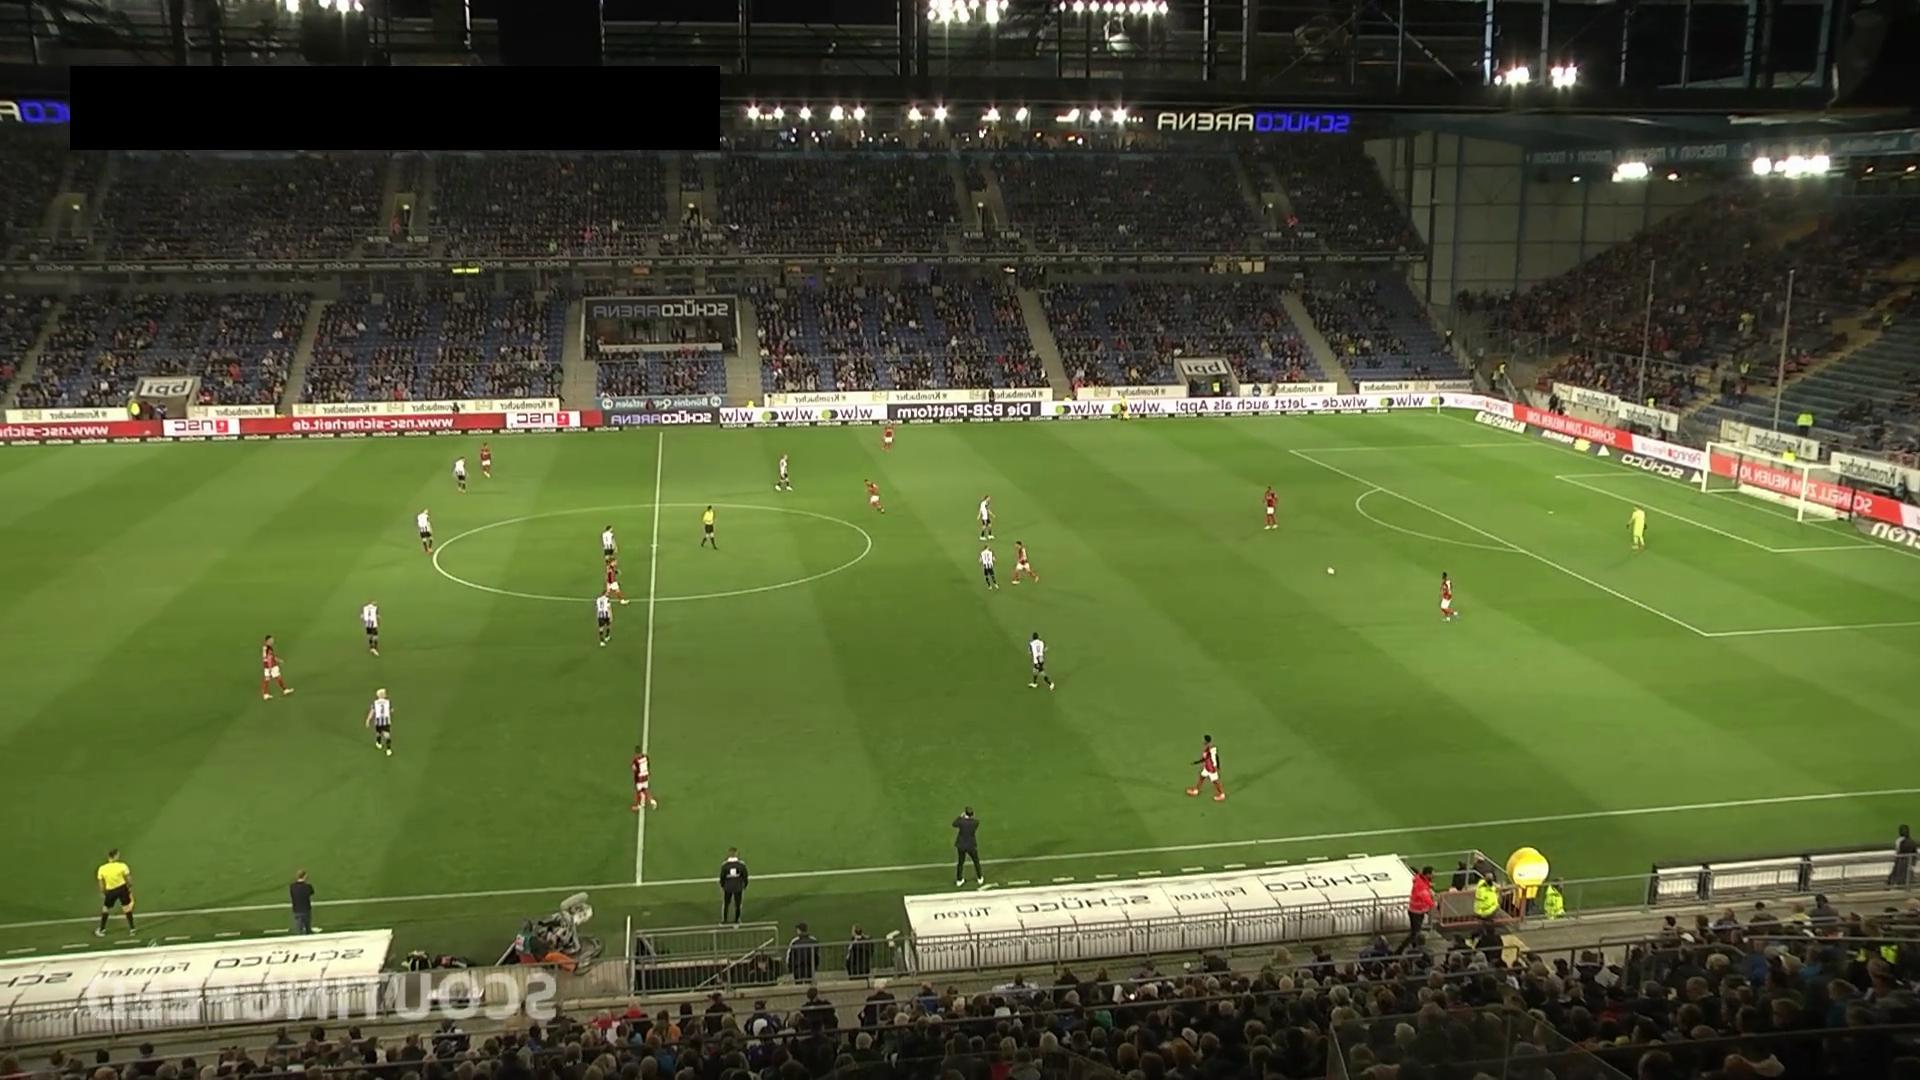ball: (1324, 564, 1337, 577)
goalkeeper: (1625, 504, 1647, 552)
player: (1185, 733, 1225, 801), (261, 634, 294, 700), (630, 744, 658, 811), (365, 687, 393, 754), (1027, 631, 1055, 691), (1011, 541, 1040, 584), (360, 599, 380, 657), (595, 587, 613, 647), (604, 561, 627, 604), (1440, 571, 1459, 623), (979, 543, 999, 590), (977, 493, 995, 539), (416, 508, 433, 555), (773, 452, 792, 493), (864, 478, 885, 514), (601, 524, 618, 566), (1263, 485, 1278, 530), (880, 418, 897, 454), (453, 456, 469, 493), (478, 441, 492, 479)
referee: (94, 847, 137, 937), (699, 503, 719, 550), (1115, 390, 1130, 421)
